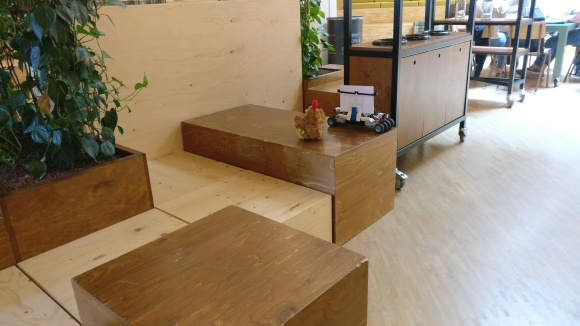car: (326, 82, 394, 134)
chicken: (292, 99, 326, 141)
